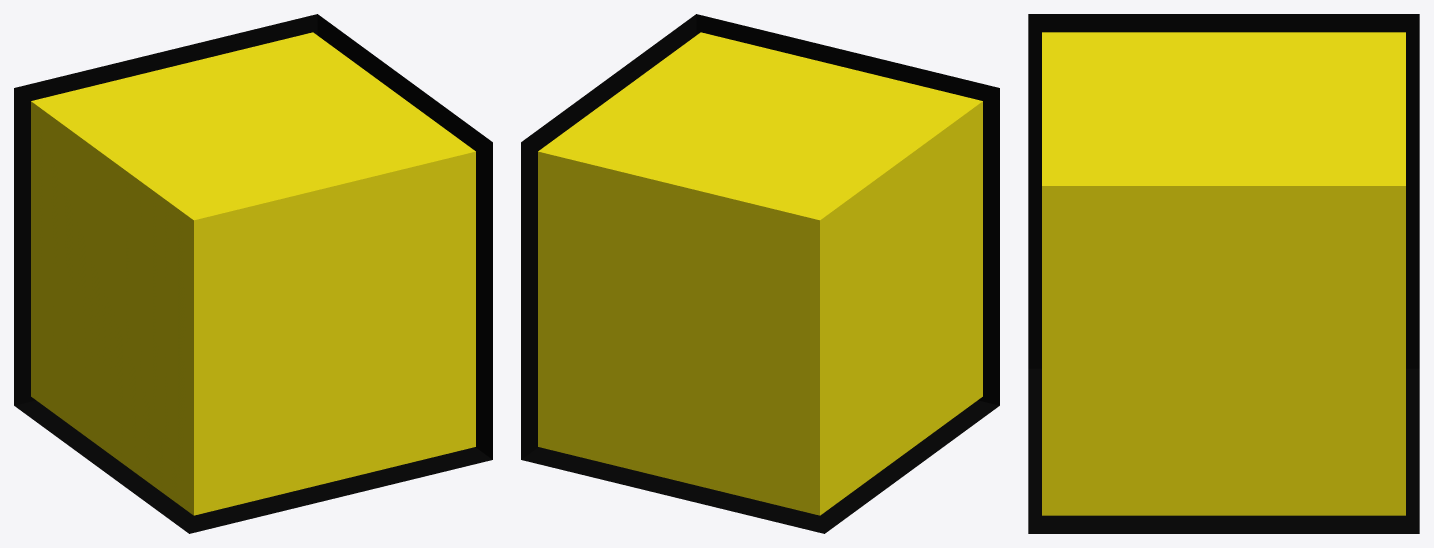
Rendered from floating_cube.glb.
The picture shows the model from 3 angles, left to right: view 1: azimuth 30°, elevation 25°; view 2: azimuth 150°, elevation 25°; view 3: azimuth 270°, elevation 25°; orthographic projection. The views are drawn at different scales.
Parts seen in each view (by area): view 1: Cube_0, Cube.001_3; view 2: Cube_0, Cube.001_3; view 3: Cube_0, Cube.001_3.
Boxes of the visible parts, box(x1,y1,x2,y2) form: Cube_0: box(31, 32, 475, 515); Cube.001_3: box(14, 14, 492, 533); Cube_0: box(538, 32, 982, 515); Cube.001_3: box(521, 14, 999, 533); Cube_0: box(1042, 32, 1405, 515); Cube.001_3: box(1028, 14, 1419, 533).
Size of the model in its own units: 2.15 by 2.15 by 2.15.
